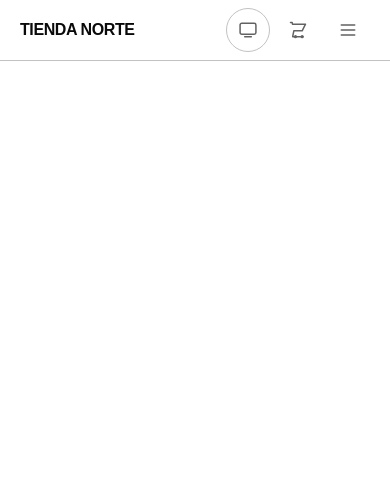
Scenario: cabecera · menú móvil › dice si está abierto y qué controla
The image size is (390, 501).
Click the button named "Abrir menú" at (348, 30), box [326,8,370,52]
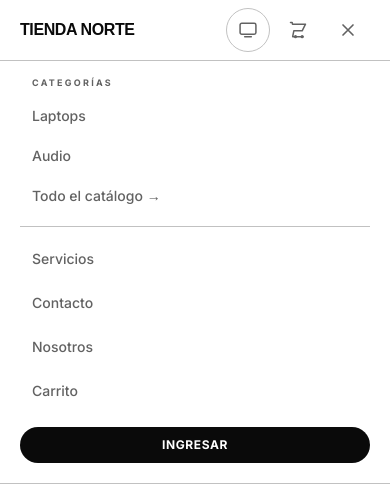
Expected: the button named "Cerrar menú" is expanded, [326,8,370,52]
Expected: the element with id "store-mobile-menu" is shown
